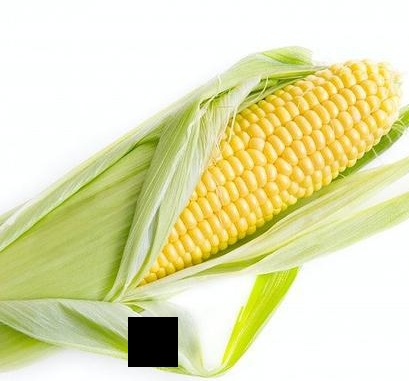corn: (116, 63, 399, 291)
